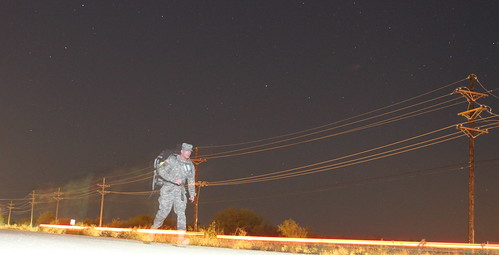sky: (8, 1, 499, 201)
soldier: (142, 138, 205, 243)
